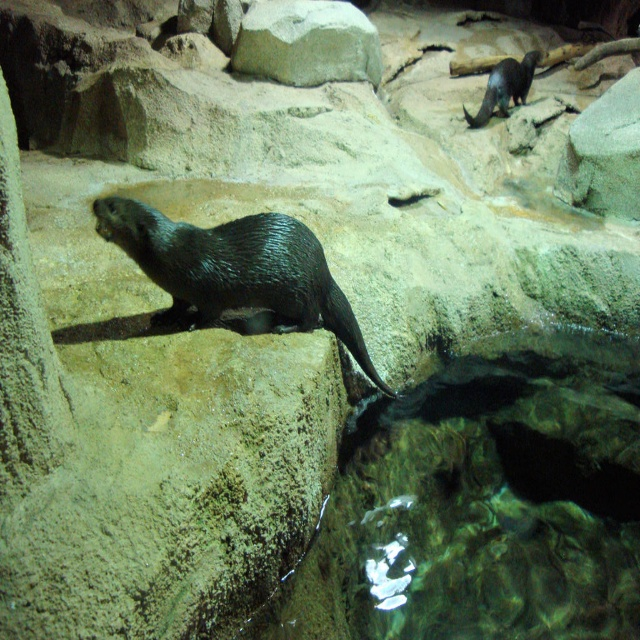Harbor seal: (93, 196, 402, 405), (459, 51, 536, 133)
